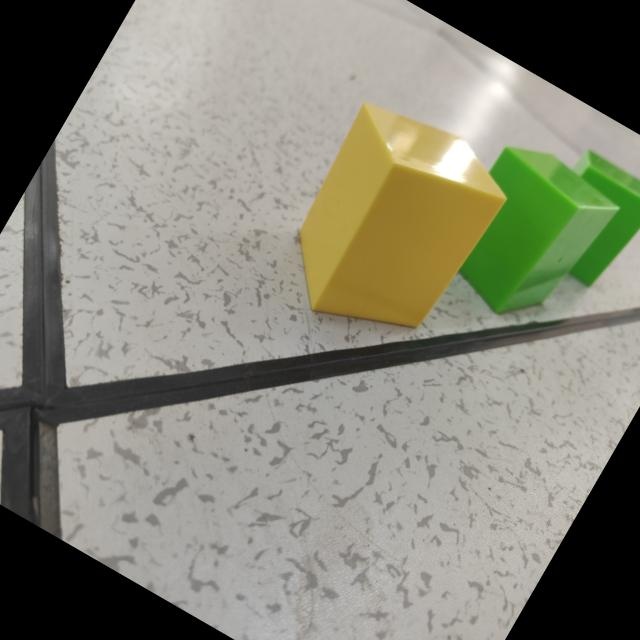green: (457, 146, 621, 313), (569, 145, 640, 292)
yellow: (297, 104, 506, 331)
